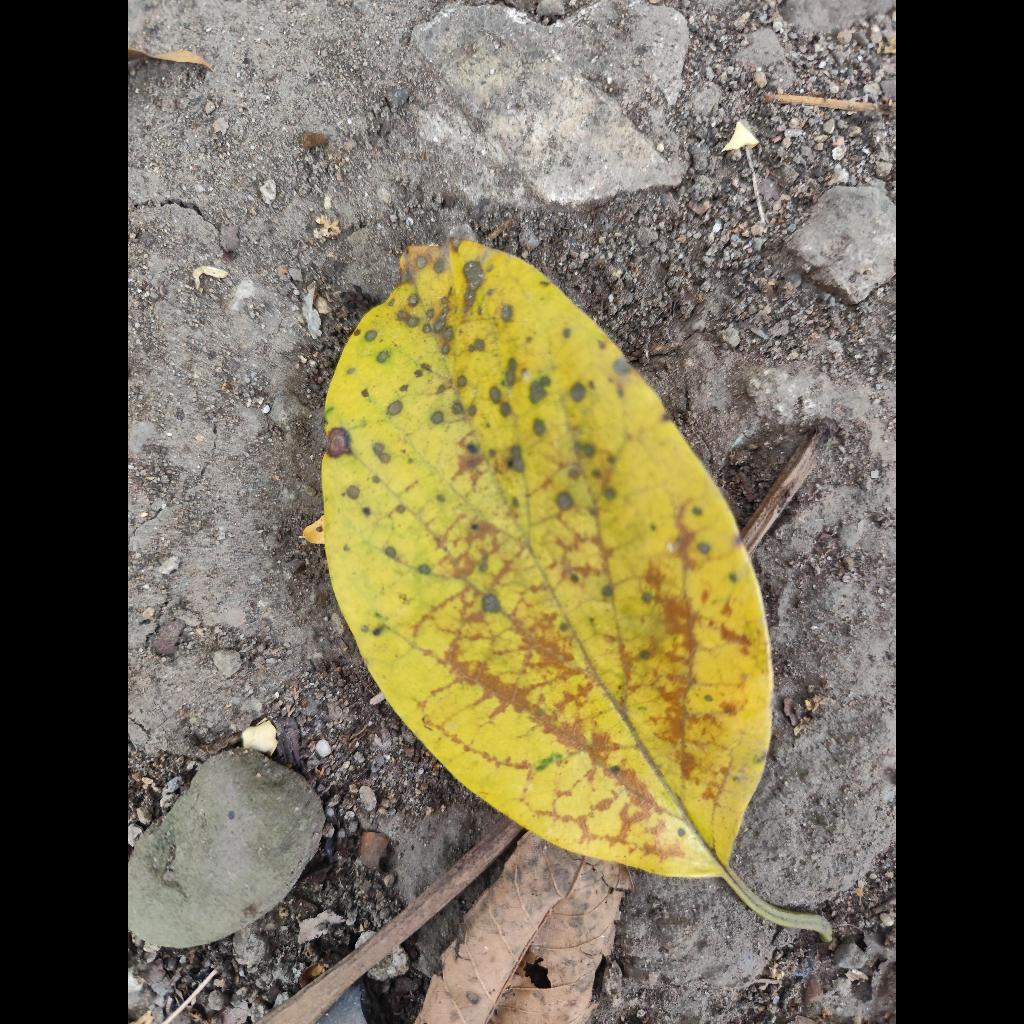nutrient_deficiency: (322, 240, 810, 926)
